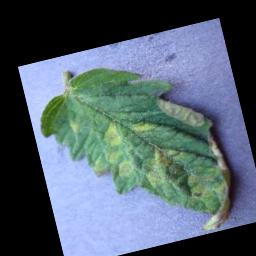Leaf_Mold: (137, 141, 193, 190), (89, 144, 135, 183), (100, 120, 122, 150), (128, 119, 156, 136), (67, 117, 82, 134)
